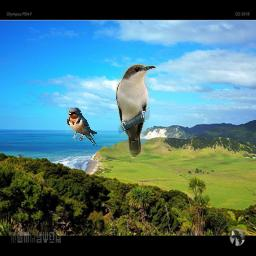Cuckoo: (116, 64, 156, 159)
Swallow: (66, 107, 97, 147)
